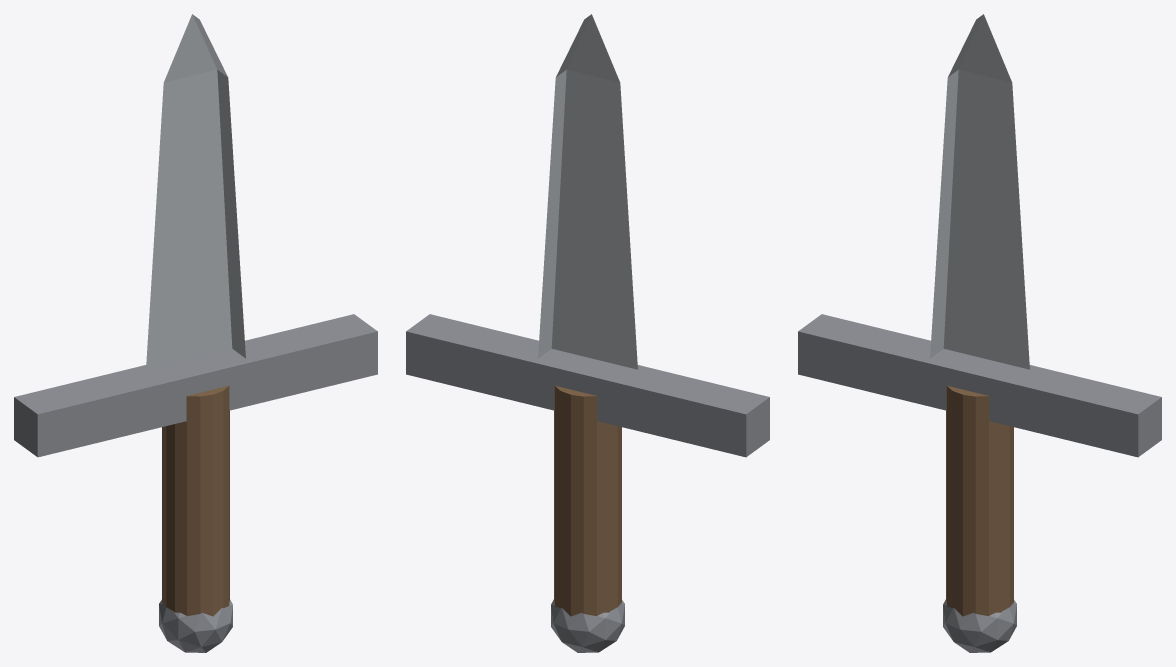
Rendered from broken_longsword.glb.
3 views of the same model, side by side, from view 1: azimuth 30°, elevation 25°; view 2: azimuth 150°, elevation 25°; view 3: azimuth 330°, elevation 25° (orthographic).
Visible parts, largest first — view 1: sword_0_0, sword_0_1, sword_0_2, sword_0_3; view 2: sword_0_0, sword_0_1, sword_0_2, sword_0_3; view 3: sword_0_0, sword_0_1, sword_0_2, sword_0_3.
Part boxes in pixels (bbox=[...]): sword_0_0: bbox=[146, 14, 245, 369]; sword_0_1: bbox=[14, 314, 377, 457]; sword_0_2: bbox=[162, 386, 229, 616]; sword_0_3: bbox=[159, 599, 232, 652]; sword_0_0: bbox=[538, 14, 637, 369]; sword_0_1: bbox=[406, 314, 769, 457]; sword_0_2: bbox=[554, 386, 621, 616]; sword_0_3: bbox=[551, 599, 624, 652]; sword_0_0: bbox=[930, 14, 1029, 369]; sword_0_1: bbox=[798, 314, 1161, 457]; sword_0_2: bbox=[946, 386, 1013, 616]; sword_0_3: bbox=[943, 599, 1016, 652].
Size of the model in its own units: 1.49 by 2.65 by 0.2962.
